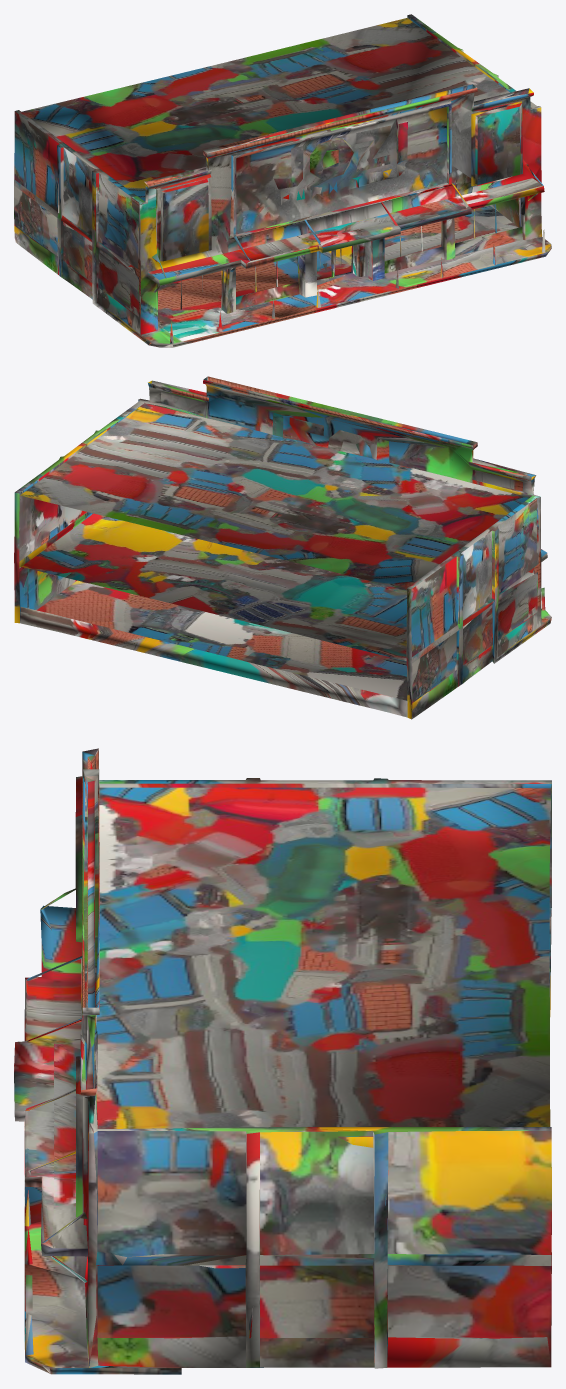
The model's file is JHB_JoziFurniture_LOD2.fbx.
The picture shows the model from 3 angles, top to bottom: view 1: azimuth 30°, elevation 25°; view 2: azimuth 150°, elevation 25°; view 3: azimuth 270°, elevation 25°; orthographic projection. The views are drawn at different scales.
Parts seen in each view (by area): view 1: mesh_node.001; view 2: mesh_node.001; view 3: mesh_node.001.
Boxes of the visible parts, <box> form: mesh_node.001: <box>14,14,551,347</box>; mesh_node.001: <box>14,376,551,719</box>; mesh_node.001: <box>14,748,551,1374</box>.
Size of the model in its own units: 2104 by 850 by 1342.
